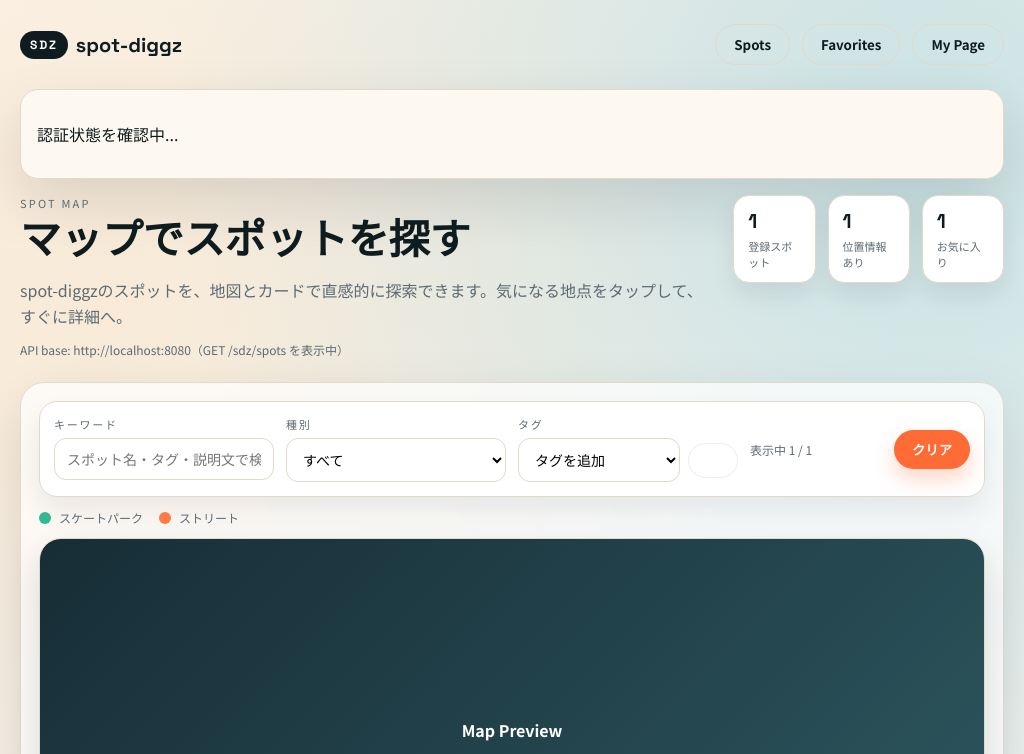
Test case: App › shows favorites page
Click the button "Favorites" at (851, 44), box 802,24 -> 900,65
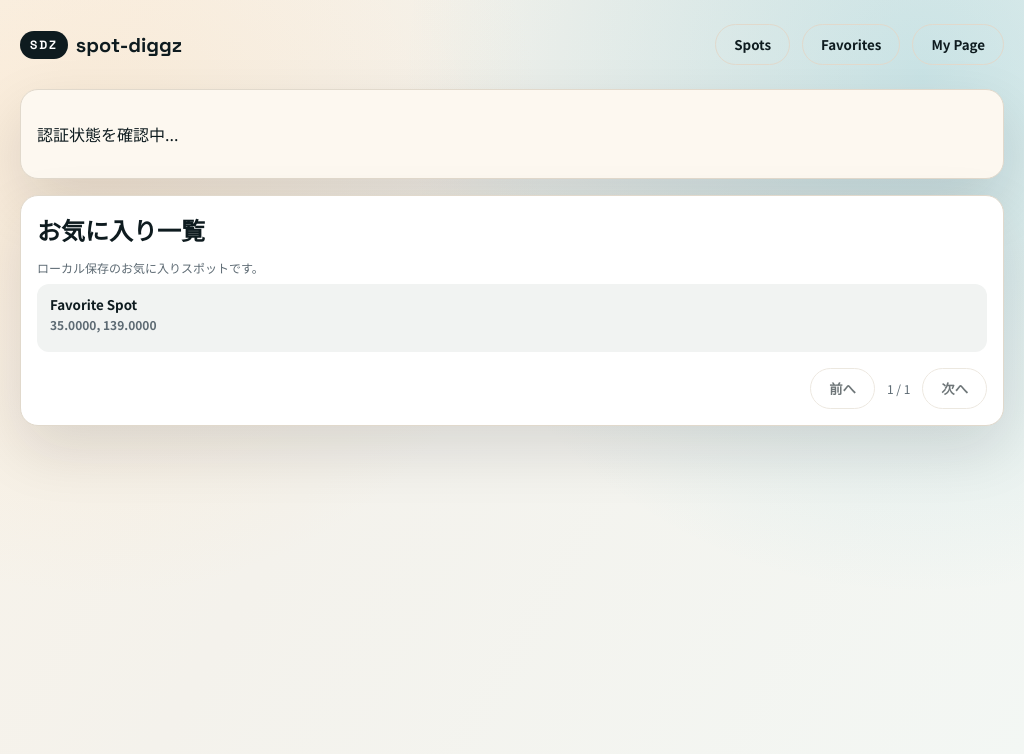
Expected: the heading "お気に入り一覧" is shown, 37,216 -> 205,247
